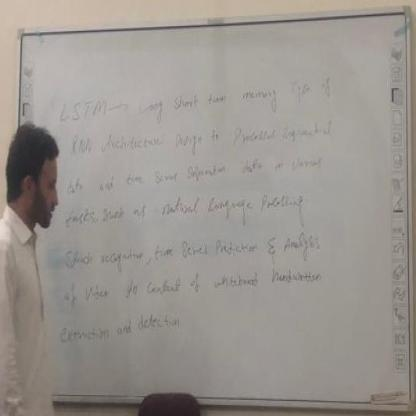Handwritten text: (56, 137, 330, 203), (57, 260, 325, 312), (59, 225, 323, 276), (60, 189, 308, 240), (52, 81, 282, 123), (67, 123, 336, 153), (55, 307, 190, 352)
Lecturer: (2, 117, 72, 401)
Whiteboard: (8, 7, 414, 416)
